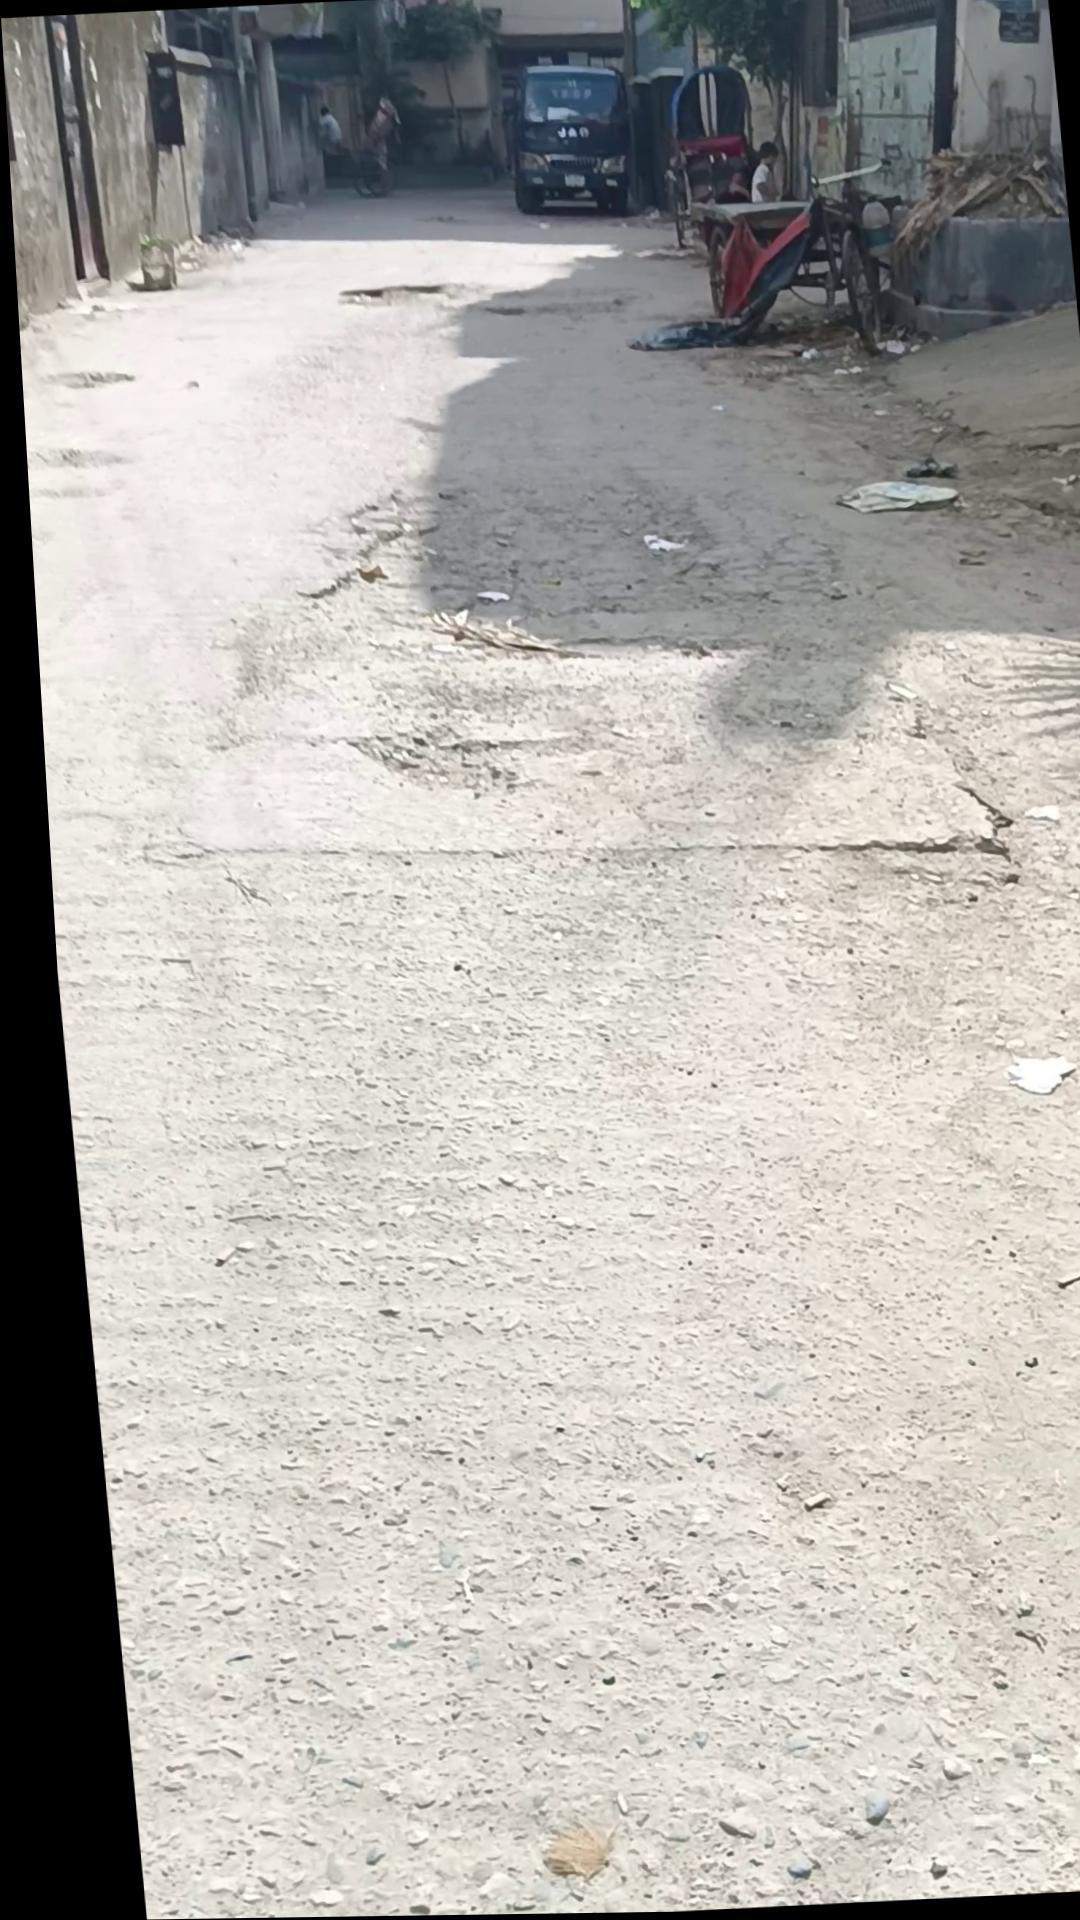Broken-road: (7, 142, 1080, 1920)
Crosswalk: (868, 208, 1072, 344)
Motorcycle: (132, 231, 175, 291)
Muddy road: (361, 96, 405, 198), (742, 142, 782, 206), (313, 104, 342, 154)
Pothole: (653, 57, 905, 361)
Traffic-sign: (498, 61, 638, 222)
